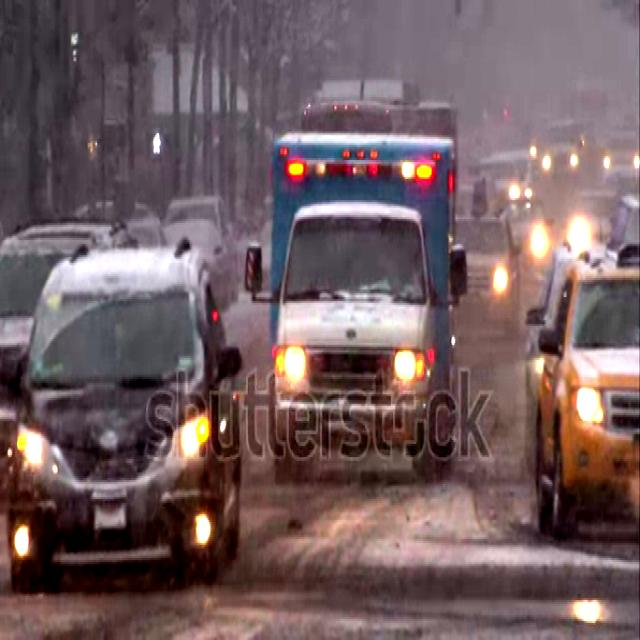ambulance: (243, 132, 469, 476)
